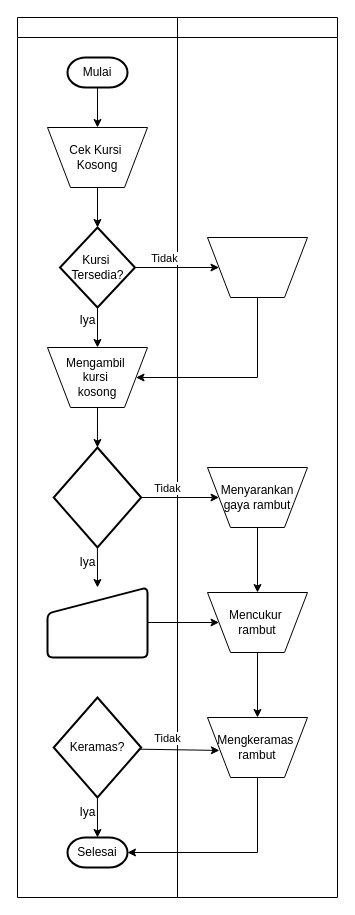
This 355x915 diagram has some shape labels left out. The shapes that lost their labels are listed below. From the top down, each one's box as (x1, y1, x2, y2) in pixels, then its label:
(206, 236, 308, 298): Meminta menunggu pada sofa
(16, 16, 178, 898): Kustomer
(176, 16, 338, 898): Pegawai
(52, 446, 142, 548): Sudah punya gaya rambut?
(46, 586, 148, 658): Menunjukkan gambar gaya rambut
